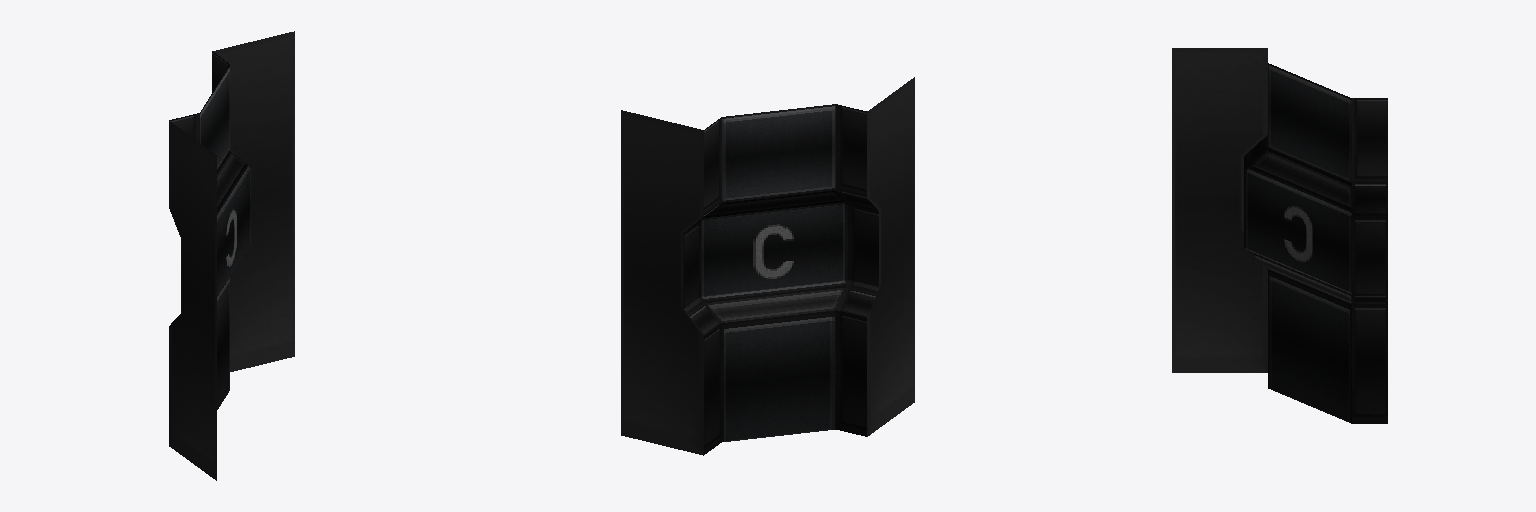
3 renders of one model, left to right at view 1: azimuth 30°, elevation 25°; view 2: azimuth 150°, elevation 25°; view 3: azimuth 270°, elevation 25°, orthographic.
Visible parts, largest first — view 1: Cube.006_Cube.011; view 2: Cube.006_Cube.011; view 3: Cube.006_Cube.011.
Part boxes in pixels (bbox=[...]): Cube.006_Cube.011: bbox=[169, 31, 294, 480]; Cube.006_Cube.011: bbox=[621, 77, 914, 455]; Cube.006_Cube.011: bbox=[1172, 48, 1387, 423].
Size of the model in its own units: 1.8 by 3 by 1.8.
Materials: 1 (1 with a texture image).